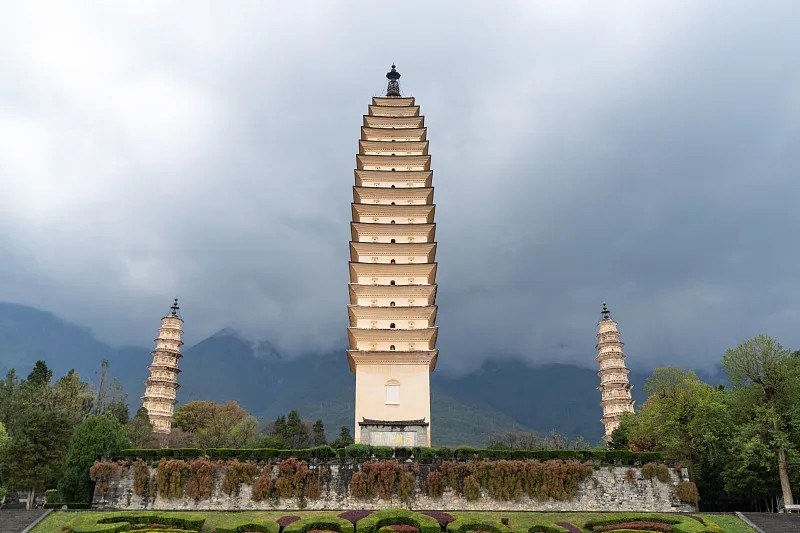ThreePagoda: (347, 63, 439, 447)
